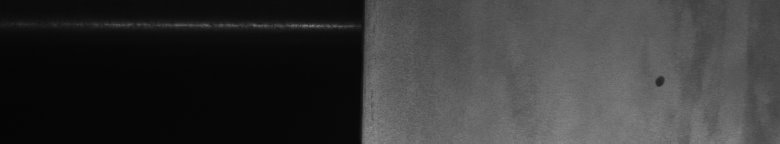fi: (650, 68, 670, 92)
